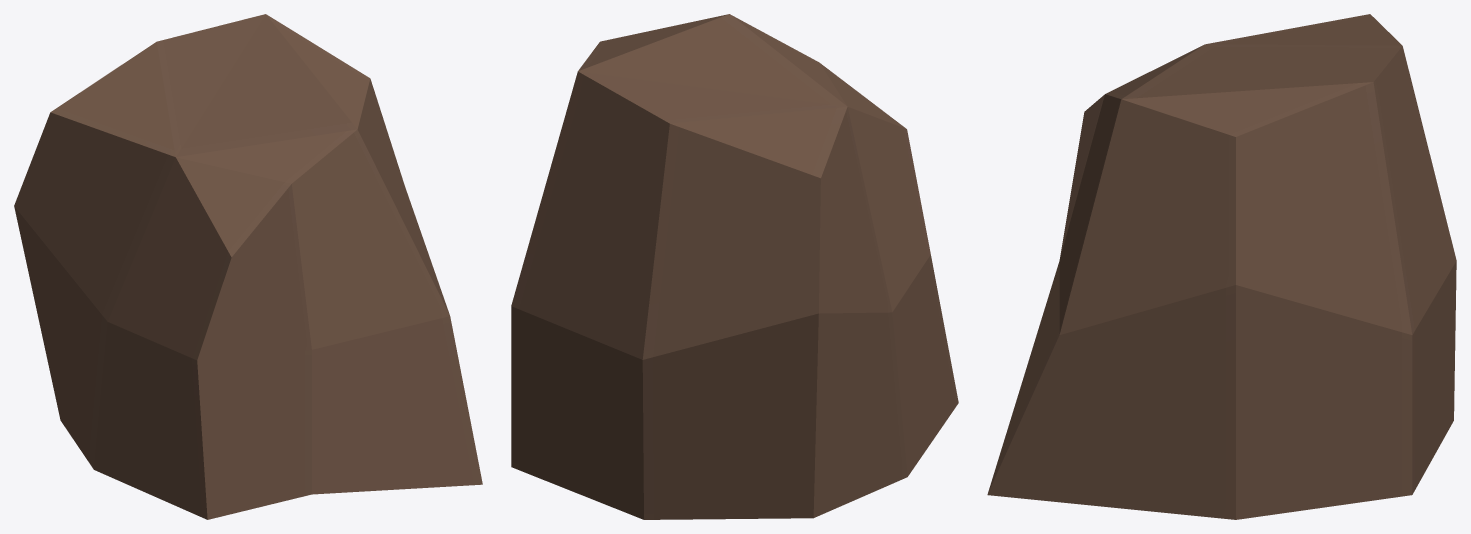
Rendered from FlatRock-A08.fbx.
3 renders of one model, left to right at view 1: azimuth 30°, elevation 25°; view 2: azimuth 150°, elevation 25°; view 3: azimuth 270°, elevation 25°, orthographic. The views are drawn at different scales.
Visible parts, largest first — view 1: FlatRock-A08; view 2: FlatRock-A08; view 3: FlatRock-A08.
Part boxes in pixels (box(x1,y1,x2,y2)): FlatRock-A08: box(14, 14, 482, 519); FlatRock-A08: box(511, 14, 958, 519); FlatRock-A08: box(987, 14, 1456, 519).
Size of the model in its own units: 233 by 244 by 266.
